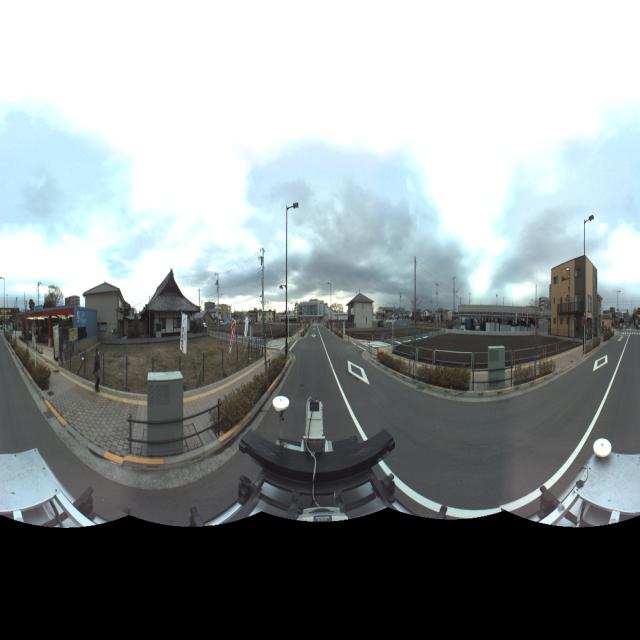b_1: (144, 260, 208, 346), (548, 256, 602, 340), (80, 270, 132, 341), (345, 290, 376, 340), (297, 290, 331, 328)
